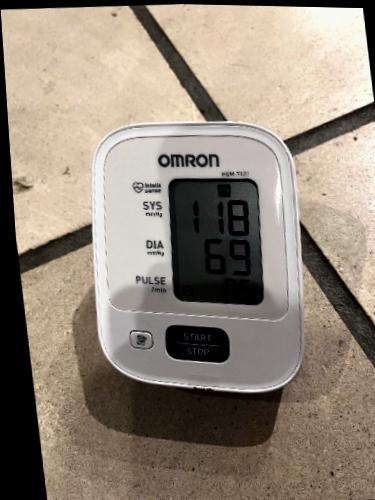bpm: (164, 174, 264, 311)
